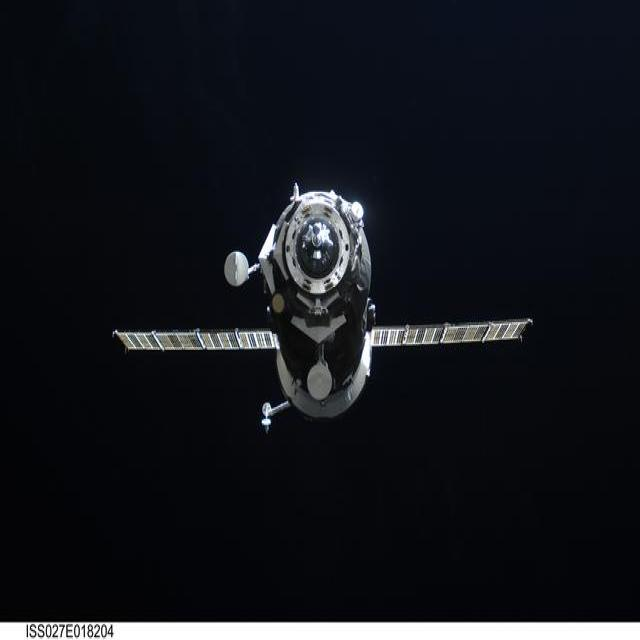medium_debris: (115, 185, 531, 429)
